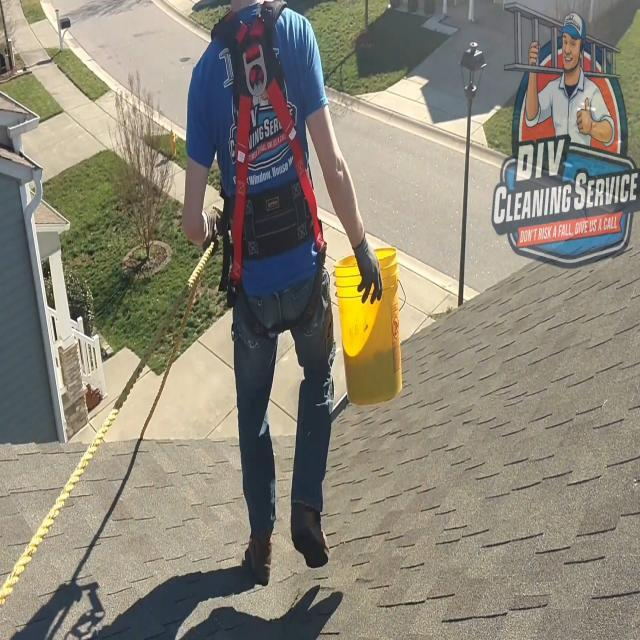belt: (204, 0, 328, 340)
